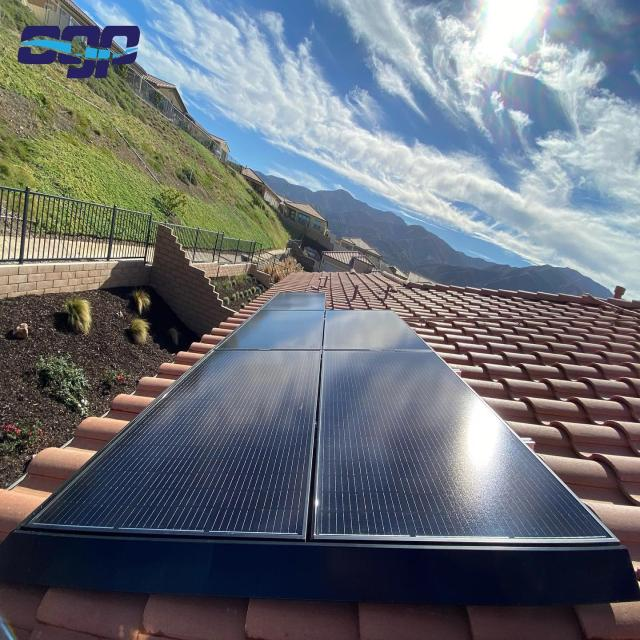clean-solar-panel: (28, 295, 611, 544)
